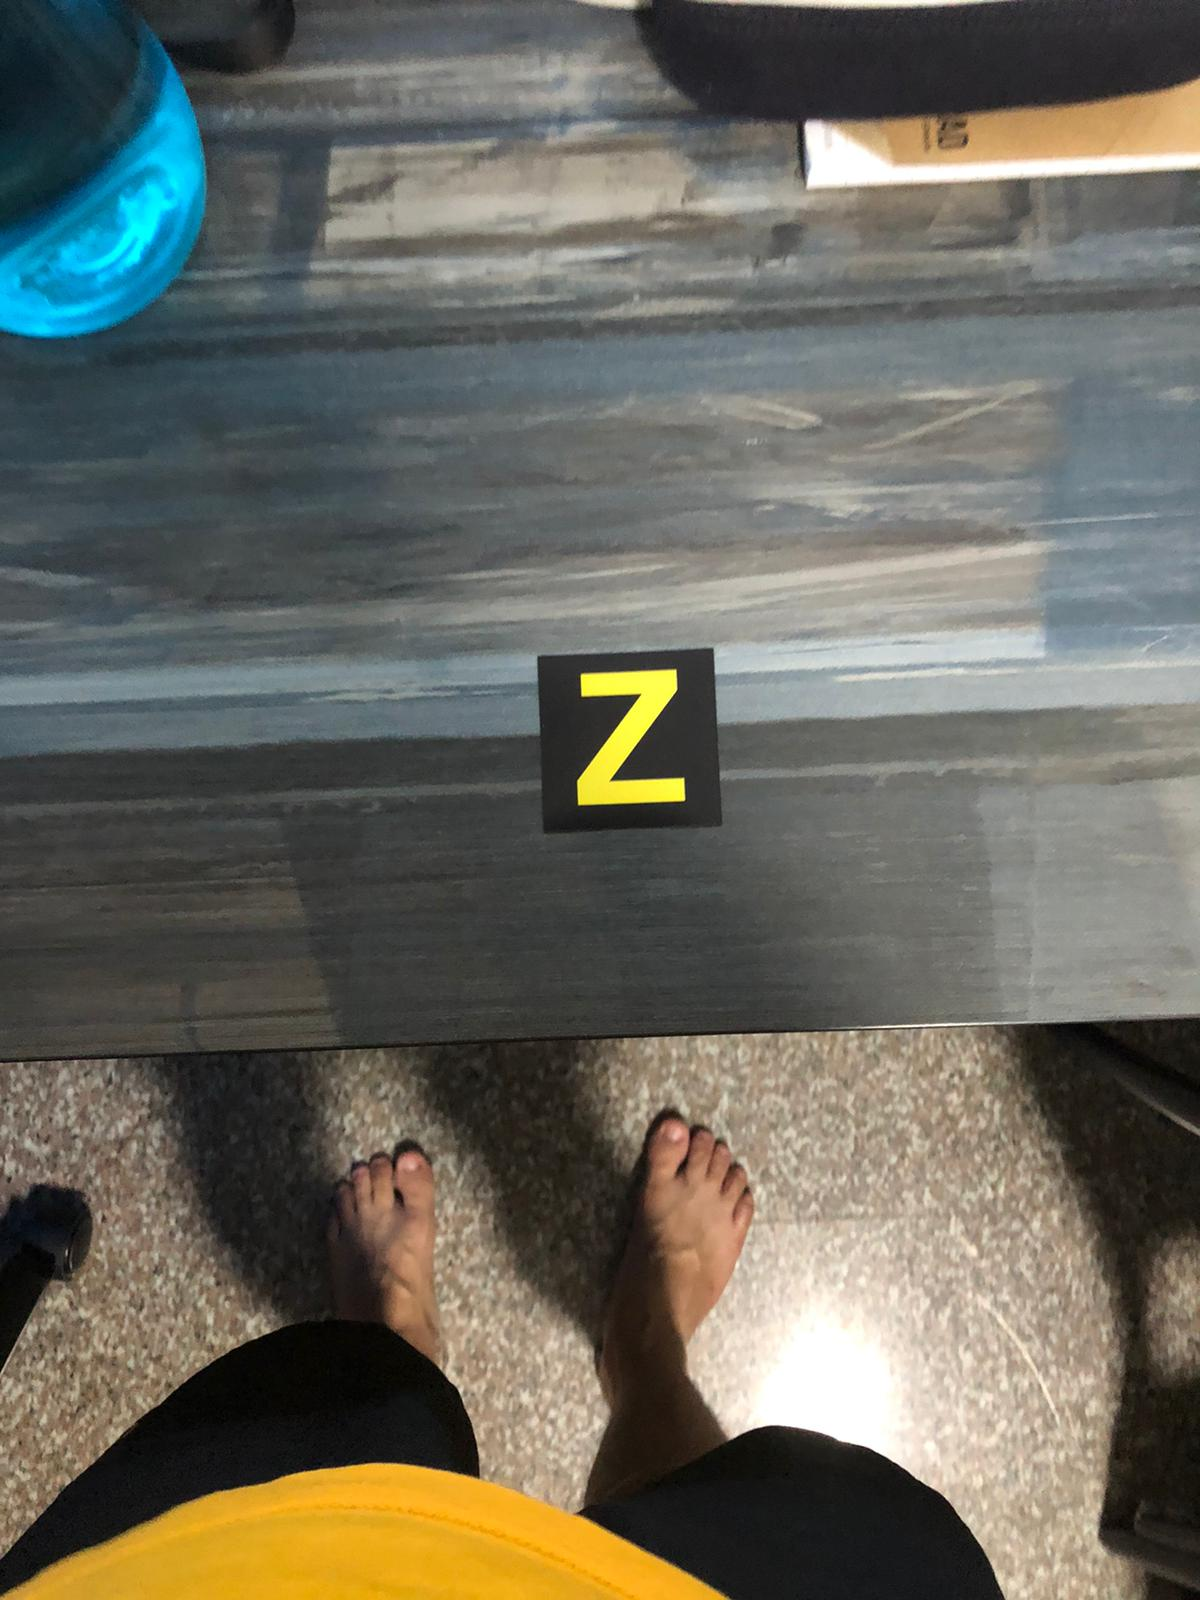Z: (539, 664, 729, 821)
